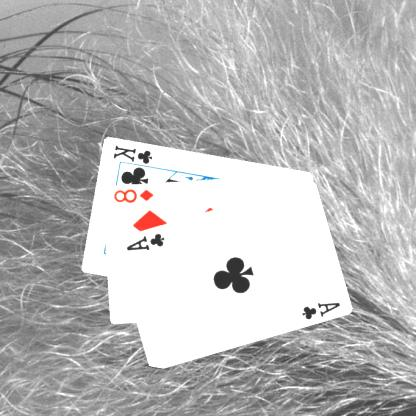8D: (112, 186, 157, 204)
AC: (300, 299, 343, 321), (125, 230, 167, 252)
KC: (112, 142, 158, 170)
